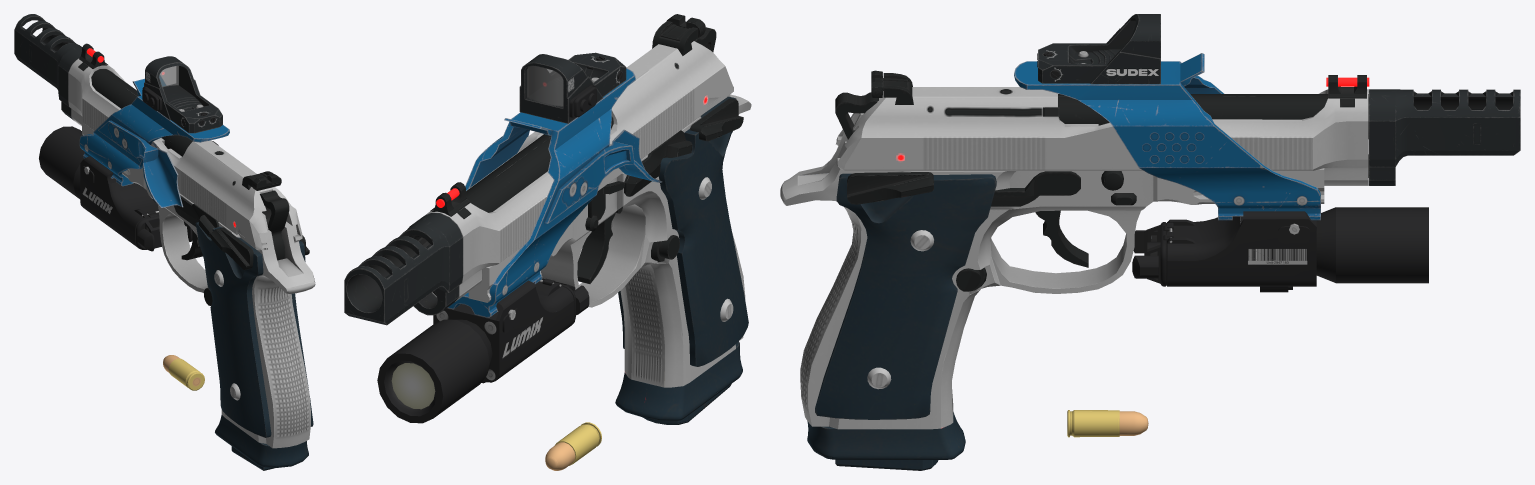
Rendered from beretta92x.glb.
3 views of the same model, side by side, from view 1: azimuth 30°, elevation 25°; view 2: azimuth 150°, elevation 25°; view 3: azimuth 270°, elevation 25° (orthographic). The views are drawn at different scales.
Visible parts, largest first — view 1: Frame_low_6, Slide_low_23, Grip_low_9, Flash_low_4, Mount_low_16, Reddot_low_18, Compensentor_low_3, Magwell_low_15, Barrel_low_0, Hammer_low_11, Safety_low_19, Slide catch_low_21 (+4 smaller); view 2: Frame_low_6, Flash_low_4, Slide_low_23, Mount_low_16, Grip_low_9, Compensentor_low_3, Reddot_low_18, Magwell_low_15, Barrel_low_0, Trigger_low_25, Slide catch_low_21, Rear sight_low_17 (+8 smaller); view 3: Slide_low_23, Grip_low_9, Frame_low_6, Flash_low_4, Mount_low_16, Compensentor_low_3, Reddot_low_18, Magwell_low_15, Barrel_low_0, Safety_low_19, Trigger rod_low_24, Catridge_low_2 (+6 smaller).
Boxes of the visible parts, box(x1,y1,x2,y2) form: Frame_low_6: box(82, 120, 315, 448); Slide_low_23: box(68, 58, 302, 250); Grip_low_9: box(195, 222, 313, 437); Flash_low_4: box(39, 126, 192, 251); Mount_low_16: box(79, 75, 229, 207); Reddot_low_18: box(142, 56, 222, 133); Compensentor_low_3: box(14, 14, 82, 120); Magwell_low_15: box(215, 415, 308, 467); Barrel_low_0: box(91, 69, 192, 156); Hammer_low_11: box(260, 190, 289, 260); Safety_low_19: box(210, 227, 309, 270); Slide catch_low_21: box(174, 196, 219, 237); Frame_low_6: box(468, 94, 751, 387); Flash_low_4: box(377, 278, 589, 423); Slide_low_23: box(424, 41, 733, 301); Mount_low_16: box(447, 68, 662, 317); Grip_low_9: box(618, 96, 748, 366); Compensentor_low_3: box(344, 213, 463, 325); Reddot_low_18: box(519, 52, 626, 123); Magwell_low_15: box(615, 341, 742, 420); Barrel_low_0: box(413, 116, 613, 247); Trigger_low_25: box(577, 212, 615, 283); Slide catch_low_21: box(624, 130, 692, 196); Rear sight_low_17: box(652, 14, 705, 55); Slide_low_23: box(836, 87, 1368, 185); Grip_low_9: box(815, 173, 996, 419); Frame_low_6: box(780, 113, 1324, 429); Flash_low_4: box(1132, 207, 1428, 292); Mount_low_16: box(1014, 53, 1320, 220); Compensentor_low_3: box(1368, 89, 1520, 185); Reddot_low_18: box(1037, 14, 1160, 84); Magwell_low_15: box(807, 412, 965, 459); Barrel_low_0: box(1058, 94, 1368, 138); Safety_low_19: box(847, 172, 933, 204); Trigger rod_low_24: box(991, 171, 1080, 206); Catridge_low_2: box(1067, 410, 1119, 437).
Bounding box in the file's own units: 0.047 × 0.1778 × 0.2708.
Materials: 3 (3 with a texture image).
